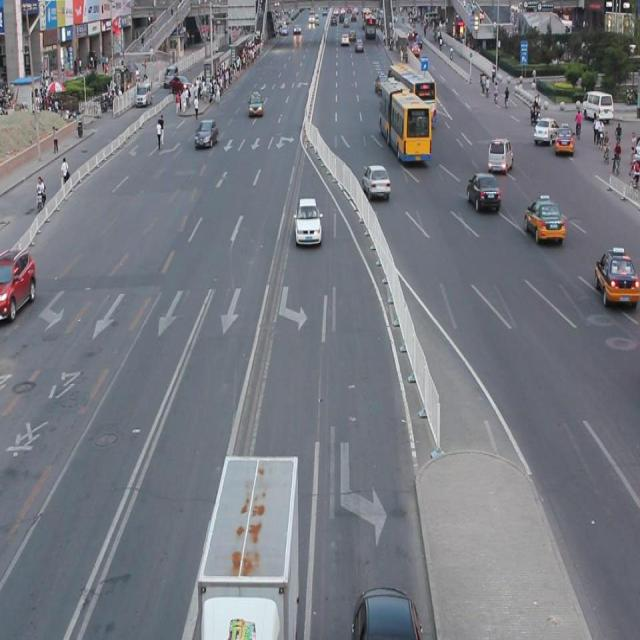bus: (197, 451, 300, 640)
car: (352, 584, 421, 640), (594, 249, 640, 307), (1, 249, 36, 321), (523, 198, 564, 242), (466, 172, 501, 212), (294, 196, 321, 244), (362, 164, 390, 199)
